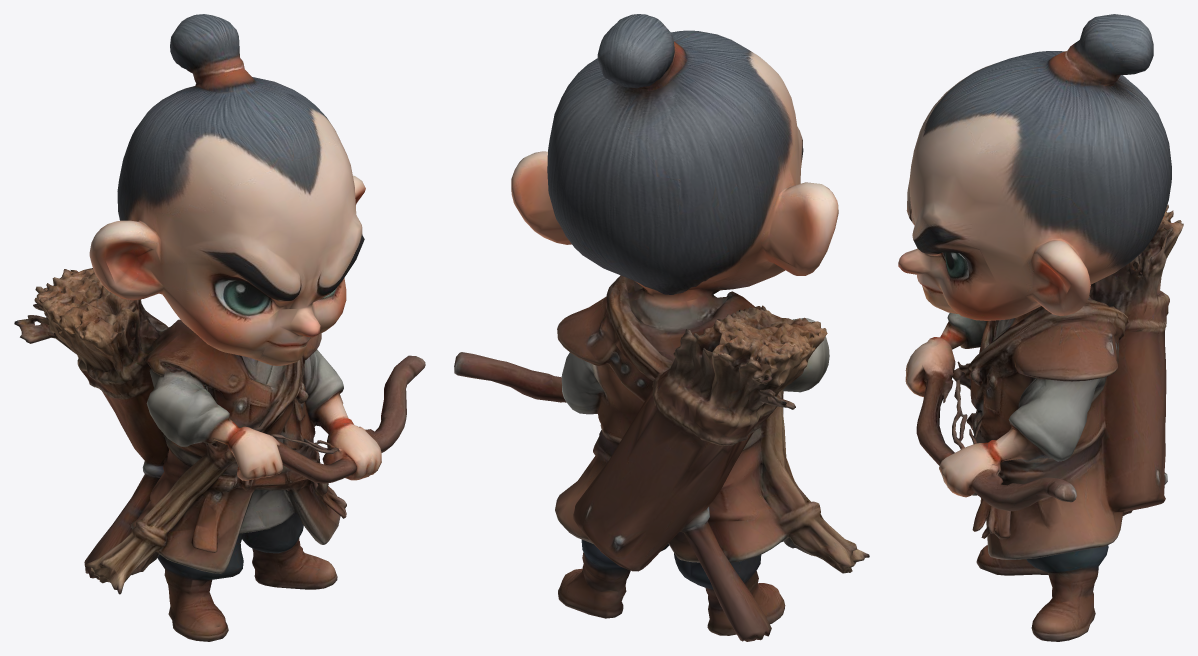
The model's file is bandit-archer.glb.
3 views of the same model, side by side, from view 1: azimuth 30°, elevation 25°; view 2: azimuth 150°, elevation 25°; view 3: azimuth 270°, elevation 25° (orthographic). The views are drawn at different scales.
Bounding box in the file's own units: 1.33 × 2 × 0.8968.
1 material, 1 textured.
